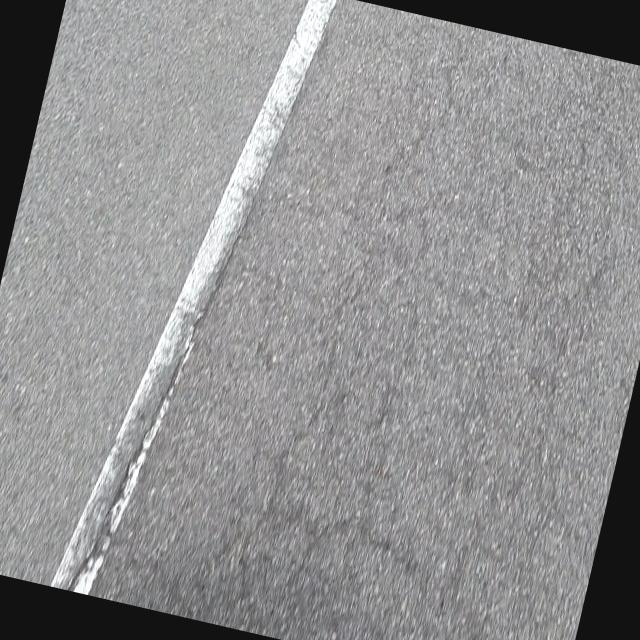Retak-Memanjang: (62, 9, 336, 590)
